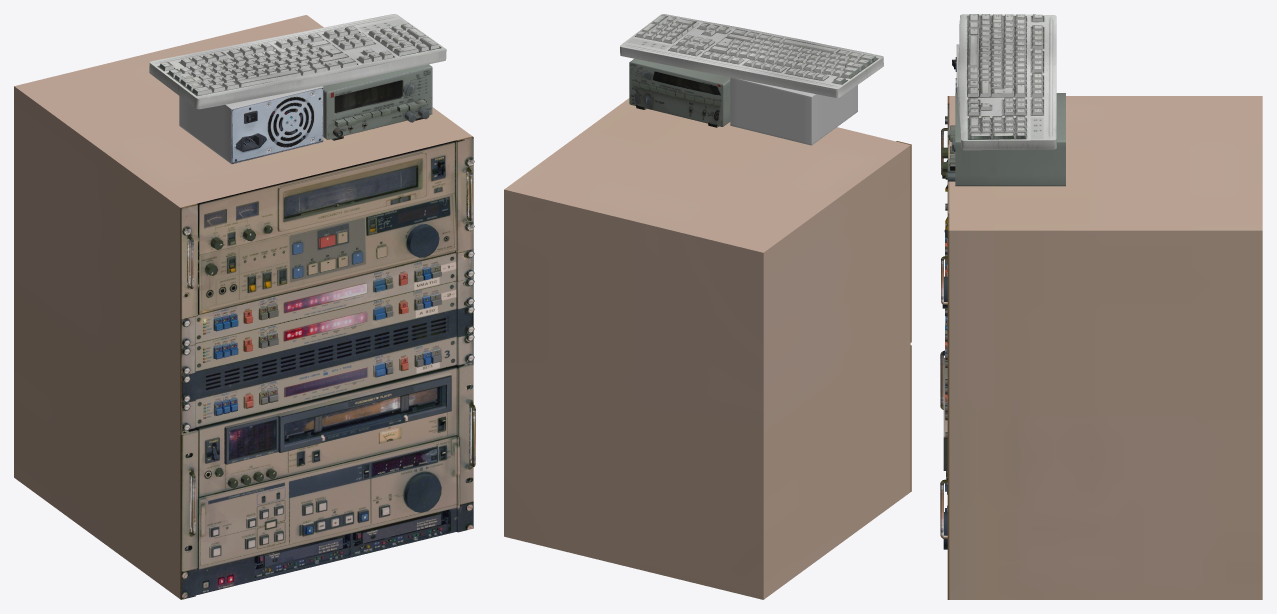
Rendered from uploads_files_4338802_panels-and-things.fbx.
3 views of the same model, side by side, from view 1: azimuth 30°, elevation 25°; view 2: azimuth 150°, elevation 25°; view 3: azimuth 270°, elevation 25° (orthographic). The views are drawn at different scales.
Visible parts, largest first — view 1: audio-panel, keyboard, psu, radio-panel; view 2: audio-panel, keyboard, psu, radio-panel; view 3: audio-panel, keyboard, radio-panel.
Part boxes in pixels (x1=…): audio-panel: x1=14, y1=15, x2=475, y2=599; keyboard: x1=149, y1=14, x2=446, y2=109; psu: x1=179, y1=86, x2=323, y2=164; radio-panel: x1=323, y1=64, x2=432, y2=140; audio-panel: x1=504, y1=98, x2=911, y2=599; keyboard: x1=620, y1=14, x2=883, y2=97; psu: x1=730, y1=77, x2=857, y2=145; radio-panel: x1=629, y1=58, x2=730, y2=127; audio-panel: x1=940, y1=96, x2=1262, y2=599; keyboard: x1=958, y1=14, x2=1056, y2=150; radio-panel: x1=947, y1=93, x2=1065, y2=186.
Size of the model in its own units: 557 by 895 by 563.
